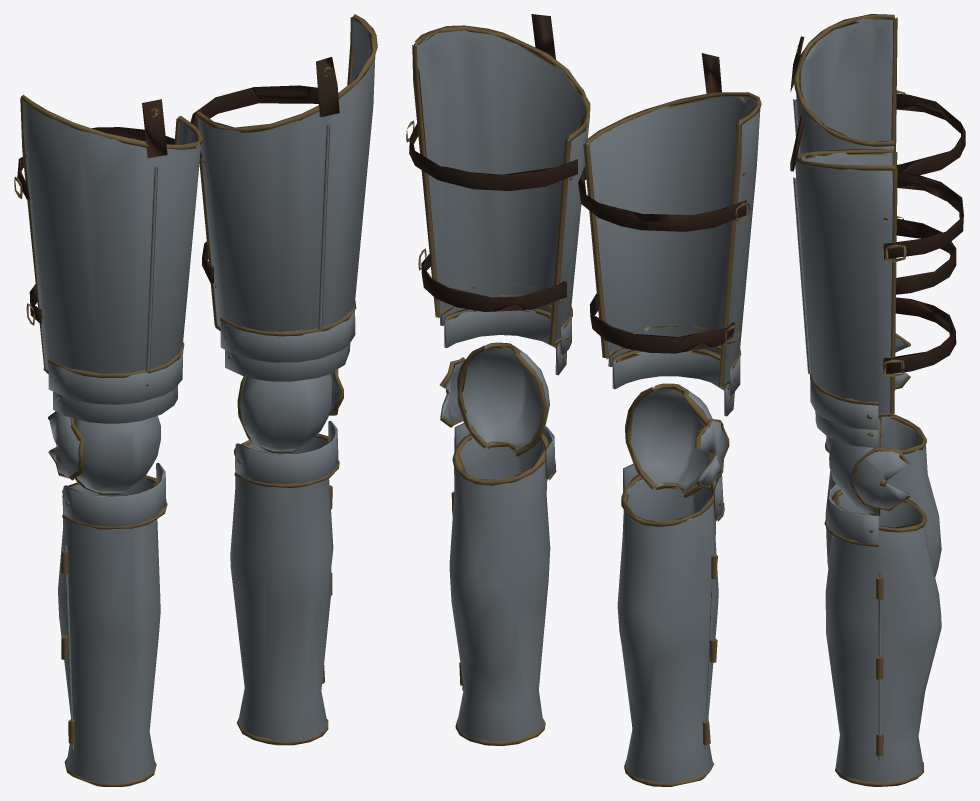
The picture shows the model from 3 angles, left to right: view 1: azimuth 30°, elevation 25°; view 2: azimuth 150°, elevation 25°; view 3: azimuth 270°, elevation 25°; orthographic projection. The views are drawn at different scales.
Visible parts, largest first — view 1: hammered plate, oiled strap leather; view 2: hammered plate, oiled strap leather; view 3: hammered plate, oiled strap leather.
Part boxes in pixels (x1,y1,x2,y2): hammered plate: [14, 14, 377, 786]; oiled strap leather: [17, 57, 339, 324]; hammered plate: [406, 25, 761, 786]; oiled strap leather: [409, 14, 746, 353]; hammered plate: [793, 14, 941, 786]; oiled strap leather: [790, 36, 965, 373].
Size of the model in its own units: 0.4188 by 0.8142 by 0.1985.
